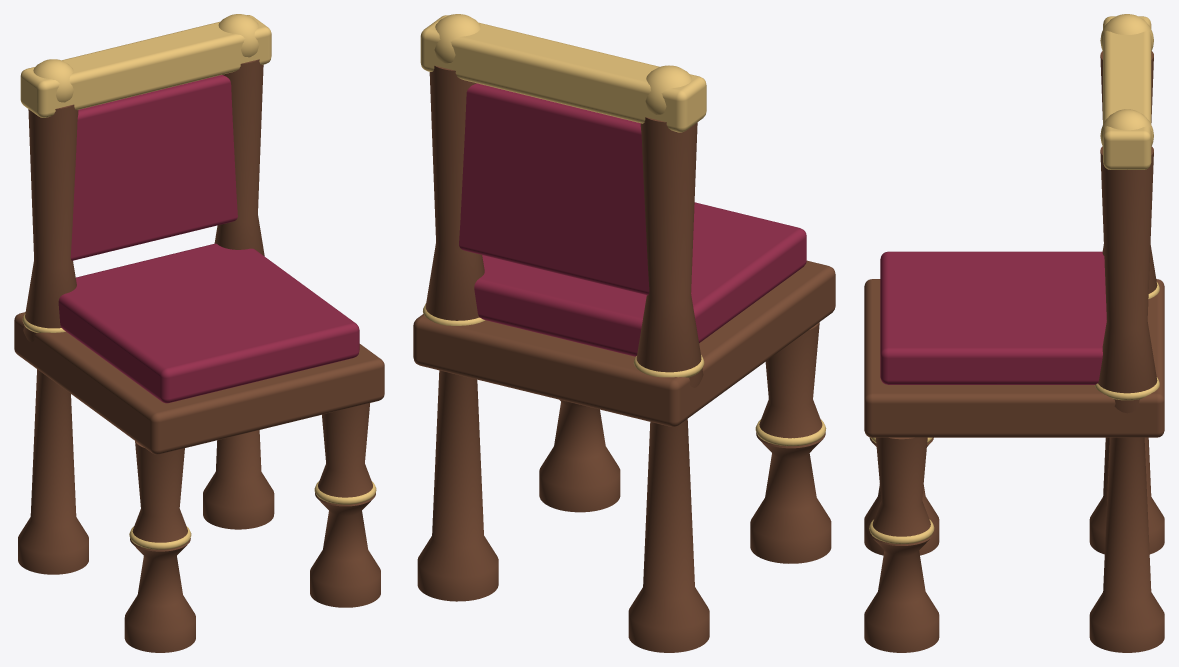
File: royal-court-and-throne-palace-banquet-chair-502088e3__29406.glb
3 views of the same model, side by side, from view 1: azimuth 30°, elevation 25°; view 2: azimuth 150°, elevation 25°; view 3: azimuth 270°, elevation 25° (orthographic). The views are drawn at different scales.
Visible parts, largest first — view 1: banquet-chair; view 2: banquet-chair; view 3: banquet-chair.
Part boxes in pixels (bbox=[...]): banquet-chair: bbox=[14, 14, 384, 652]; banquet-chair: bbox=[413, 14, 835, 652]; banquet-chair: bbox=[864, 14, 1164, 652].
Size of the model in its own units: 0.56 by 1.08 by 0.56.
